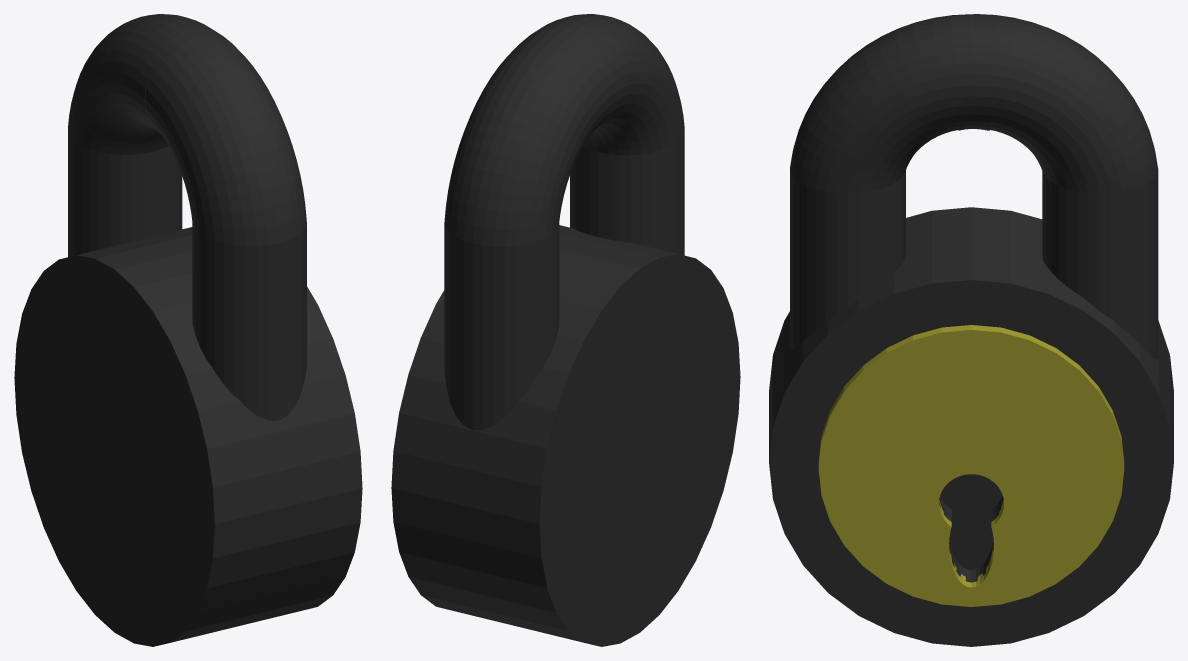
File: padlock.fbx
The picture shows the model from 3 angles, left to right: view 1: azimuth 30°, elevation 25°; view 2: azimuth 150°, elevation 25°; view 3: azimuth 270°, elevation 25°; orthographic projection.
Parts seen in each view (by area): view 1: PadLockBase, Cylinder; view 2: PadLockBase, Cylinder; view 3: Cylinder, PadLockBase, PadLockColor.
Boxes of the visible parts, bbox=[...] form: PadLockBase: bbox=[14, 227, 362, 646]; Cylinder: bbox=[68, 14, 306, 420]; PadLockBase: bbox=[391, 225, 740, 646]; Cylinder: bbox=[444, 14, 684, 430]; Cylinder: bbox=[790, 14, 1158, 359]; PadLockBase: bbox=[769, 207, 1173, 646]; PadLockColor: bbox=[818, 325, 1124, 606].
Bounding box in the file's own units: 90.99 × 322 × 200.
